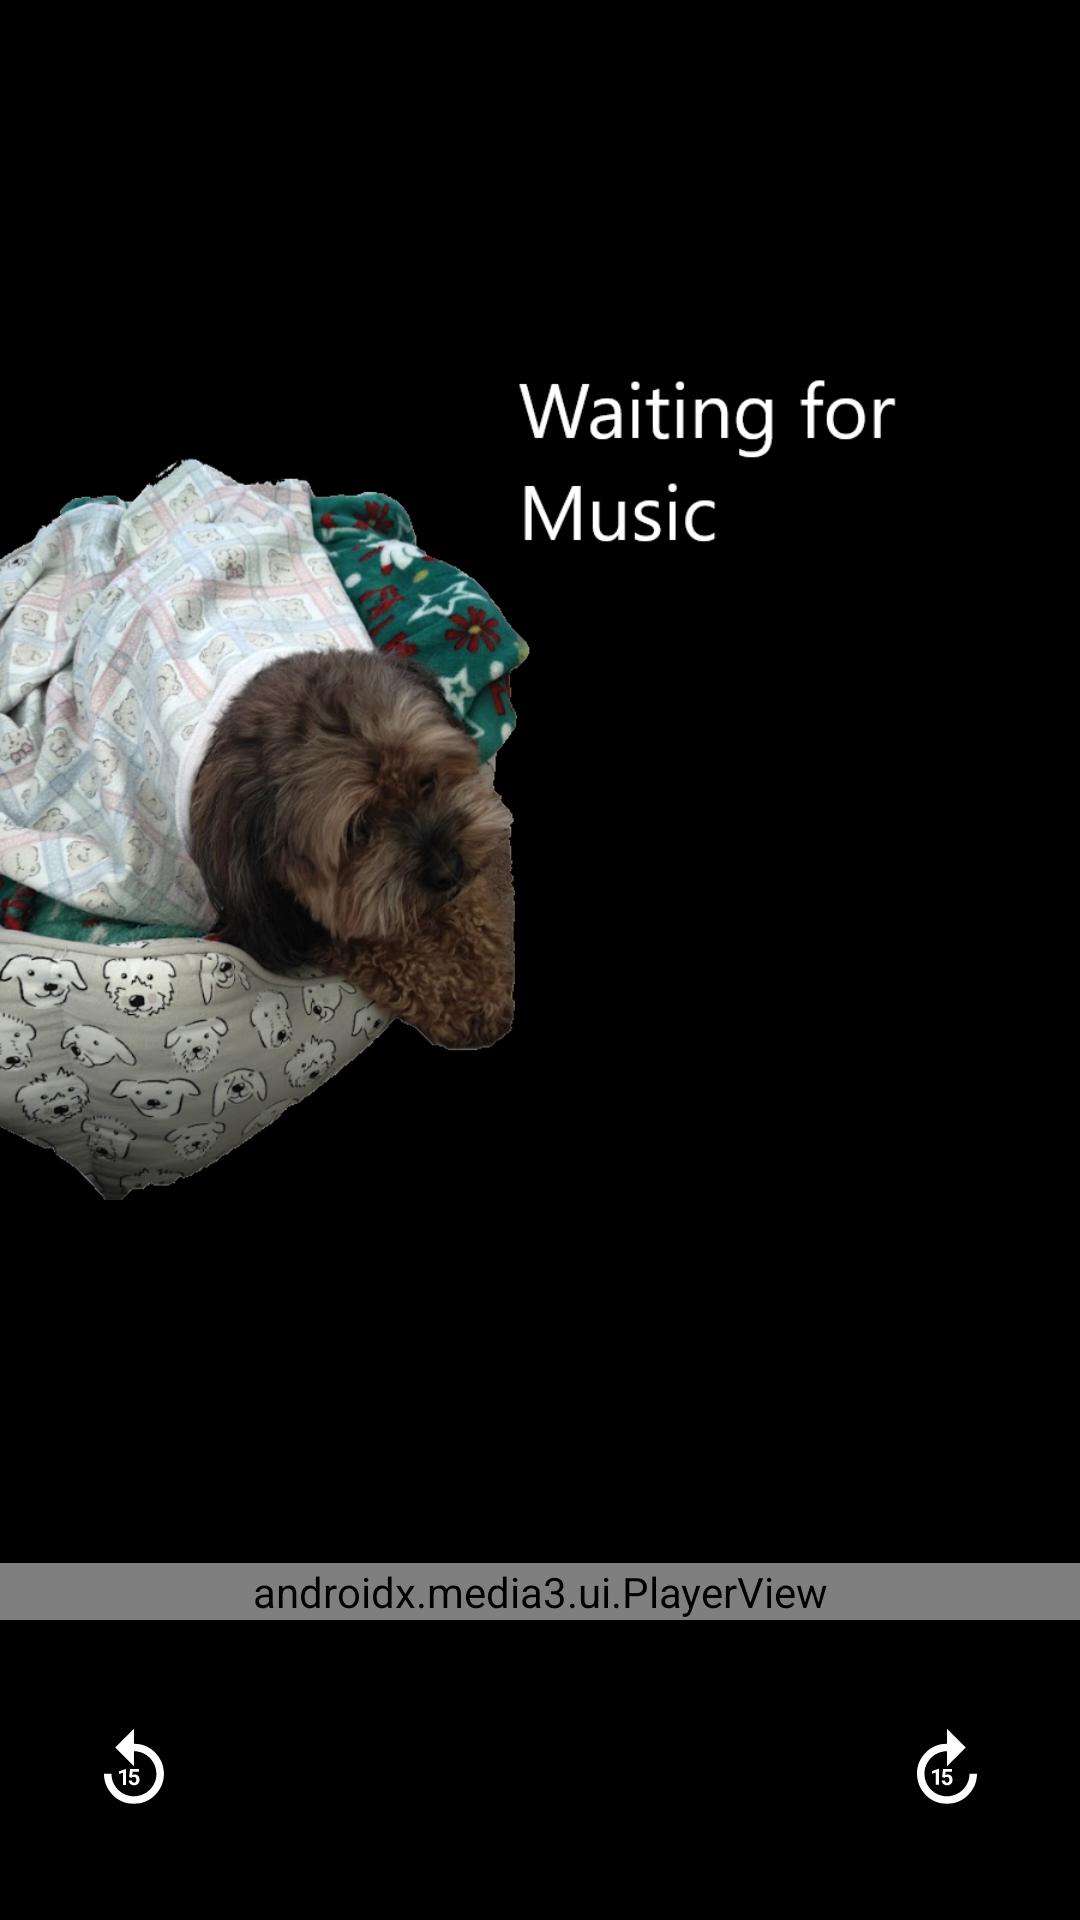

Icons on this 1080*1920 Android screen, each with the point to tap as point (x, y):
forward: point (947, 1766)
replay: point (134, 1766)
